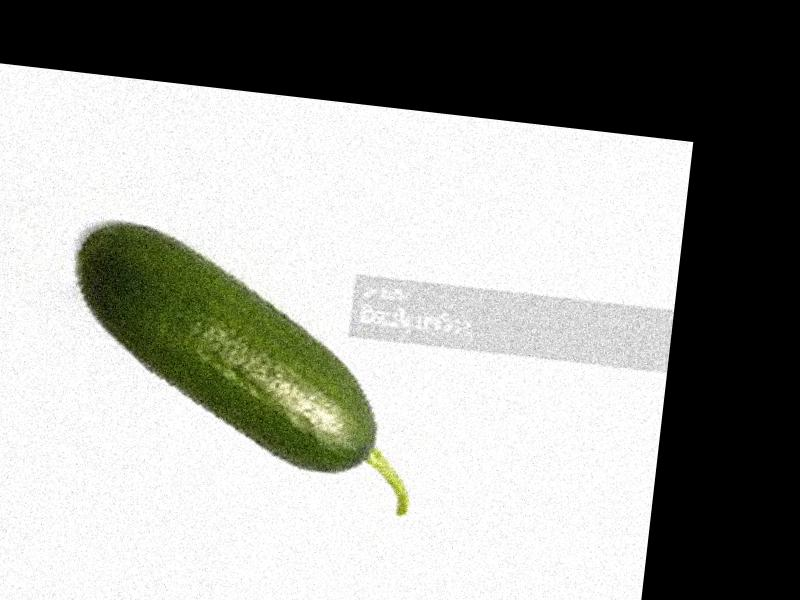Cucumber: (56, 216, 443, 514)
